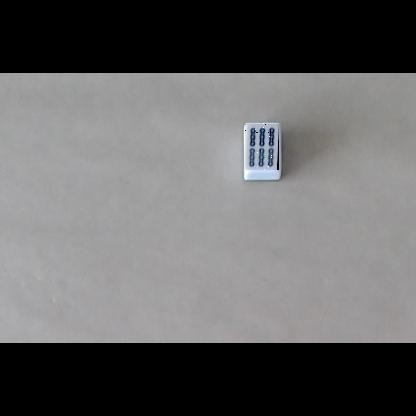6s: (245, 123, 279, 170)
